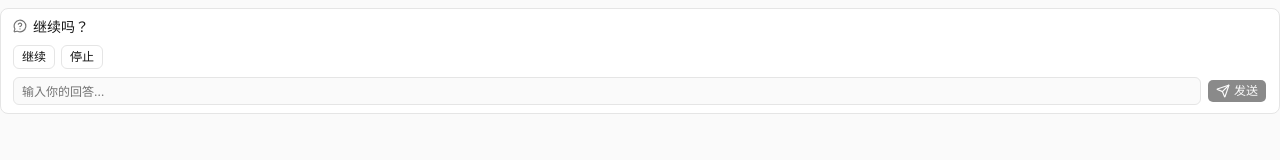
Test case: QuestionCard › locks option buttons after an option is clicked
This screenshot has width=1280, height=160.
Click the button "继续" at (34, 57), box [13,45,55,69]
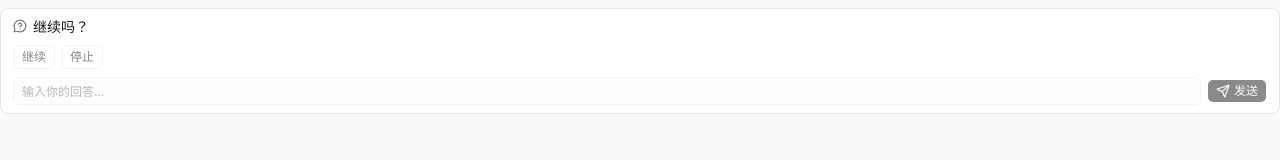
Result: the button "继续" is disabled at [13,45,55,69]
Result: the button "停止" is disabled at [61,45,103,69]
Result: the field is disabled at [13,77,1201,105]
